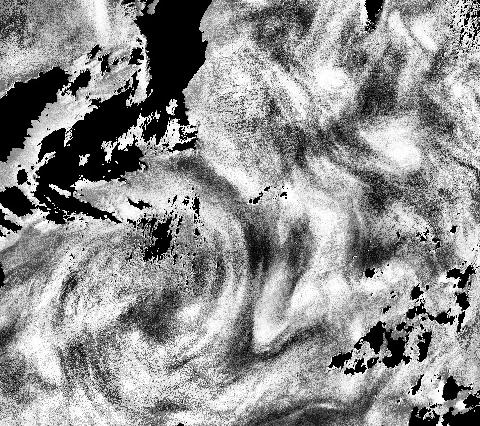AE: (32, 168, 273, 379)
